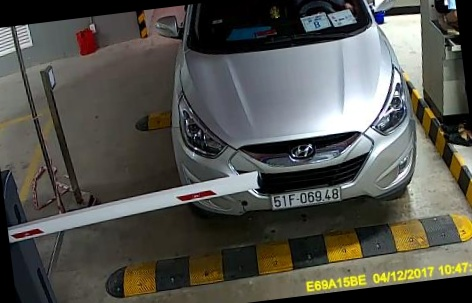plate: (268, 177, 343, 214)
